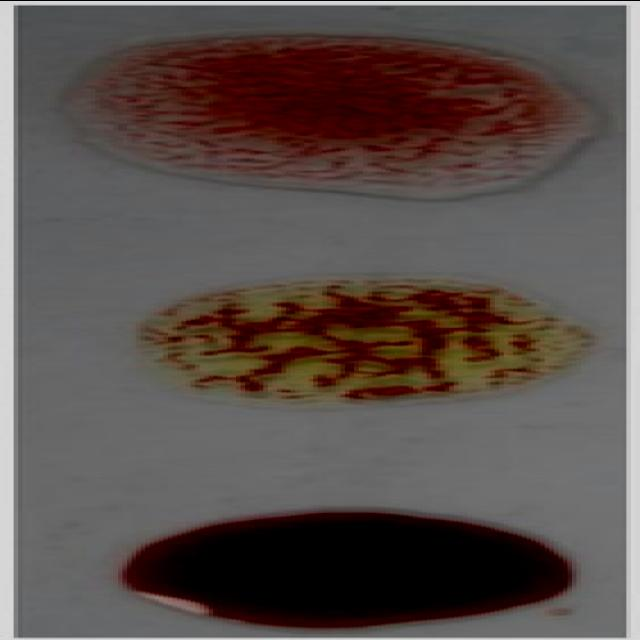B: (115, 273, 588, 407)
D: (62, 32, 600, 188)
